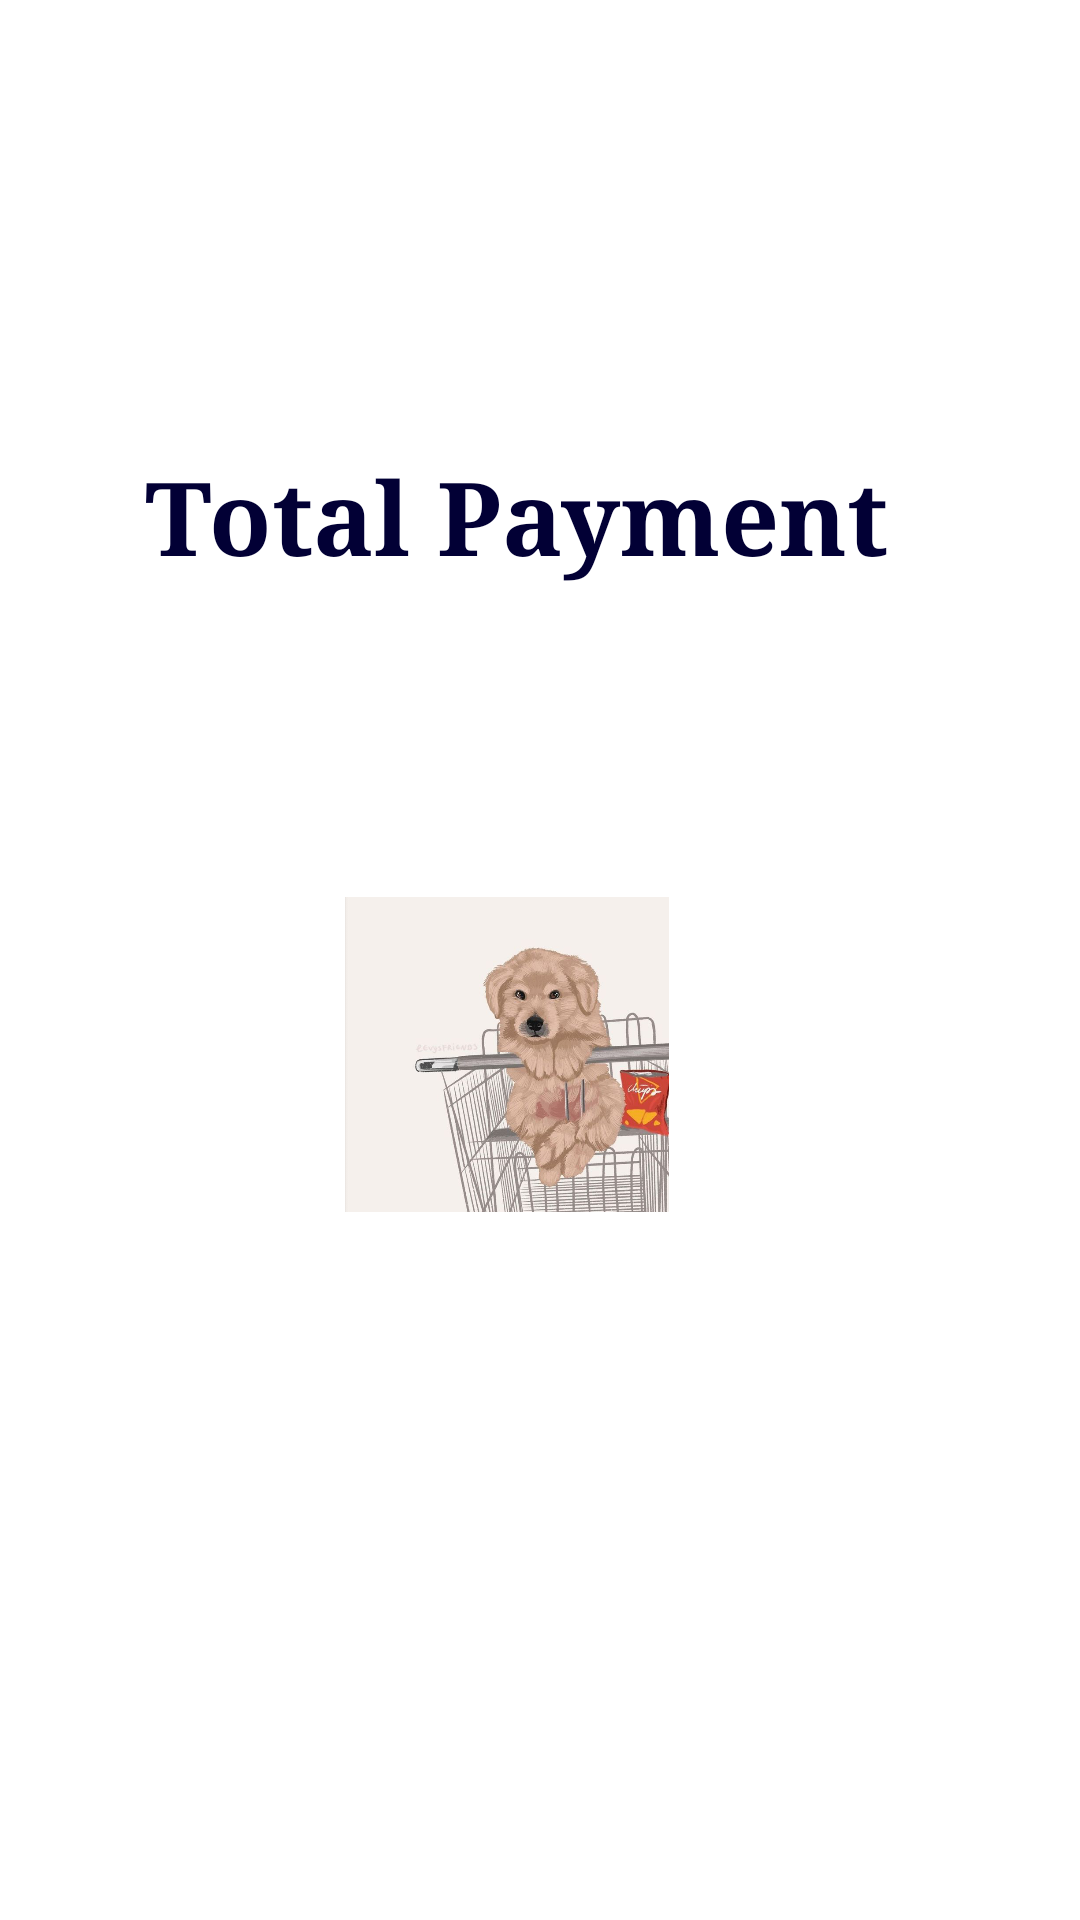

Icons on this 1080×1920 Android screen, each with its box as box=[x1, y1, x2, y2]:
puppy: box=[345, 897, 669, 1212]
